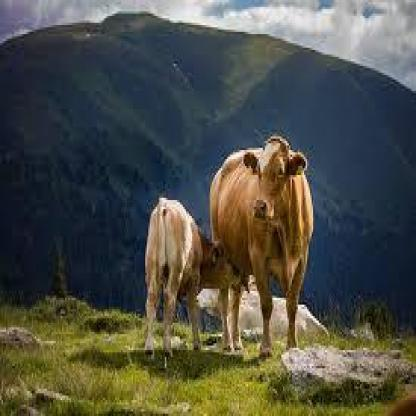cow: (210, 136, 315, 354), (144, 197, 242, 358)
